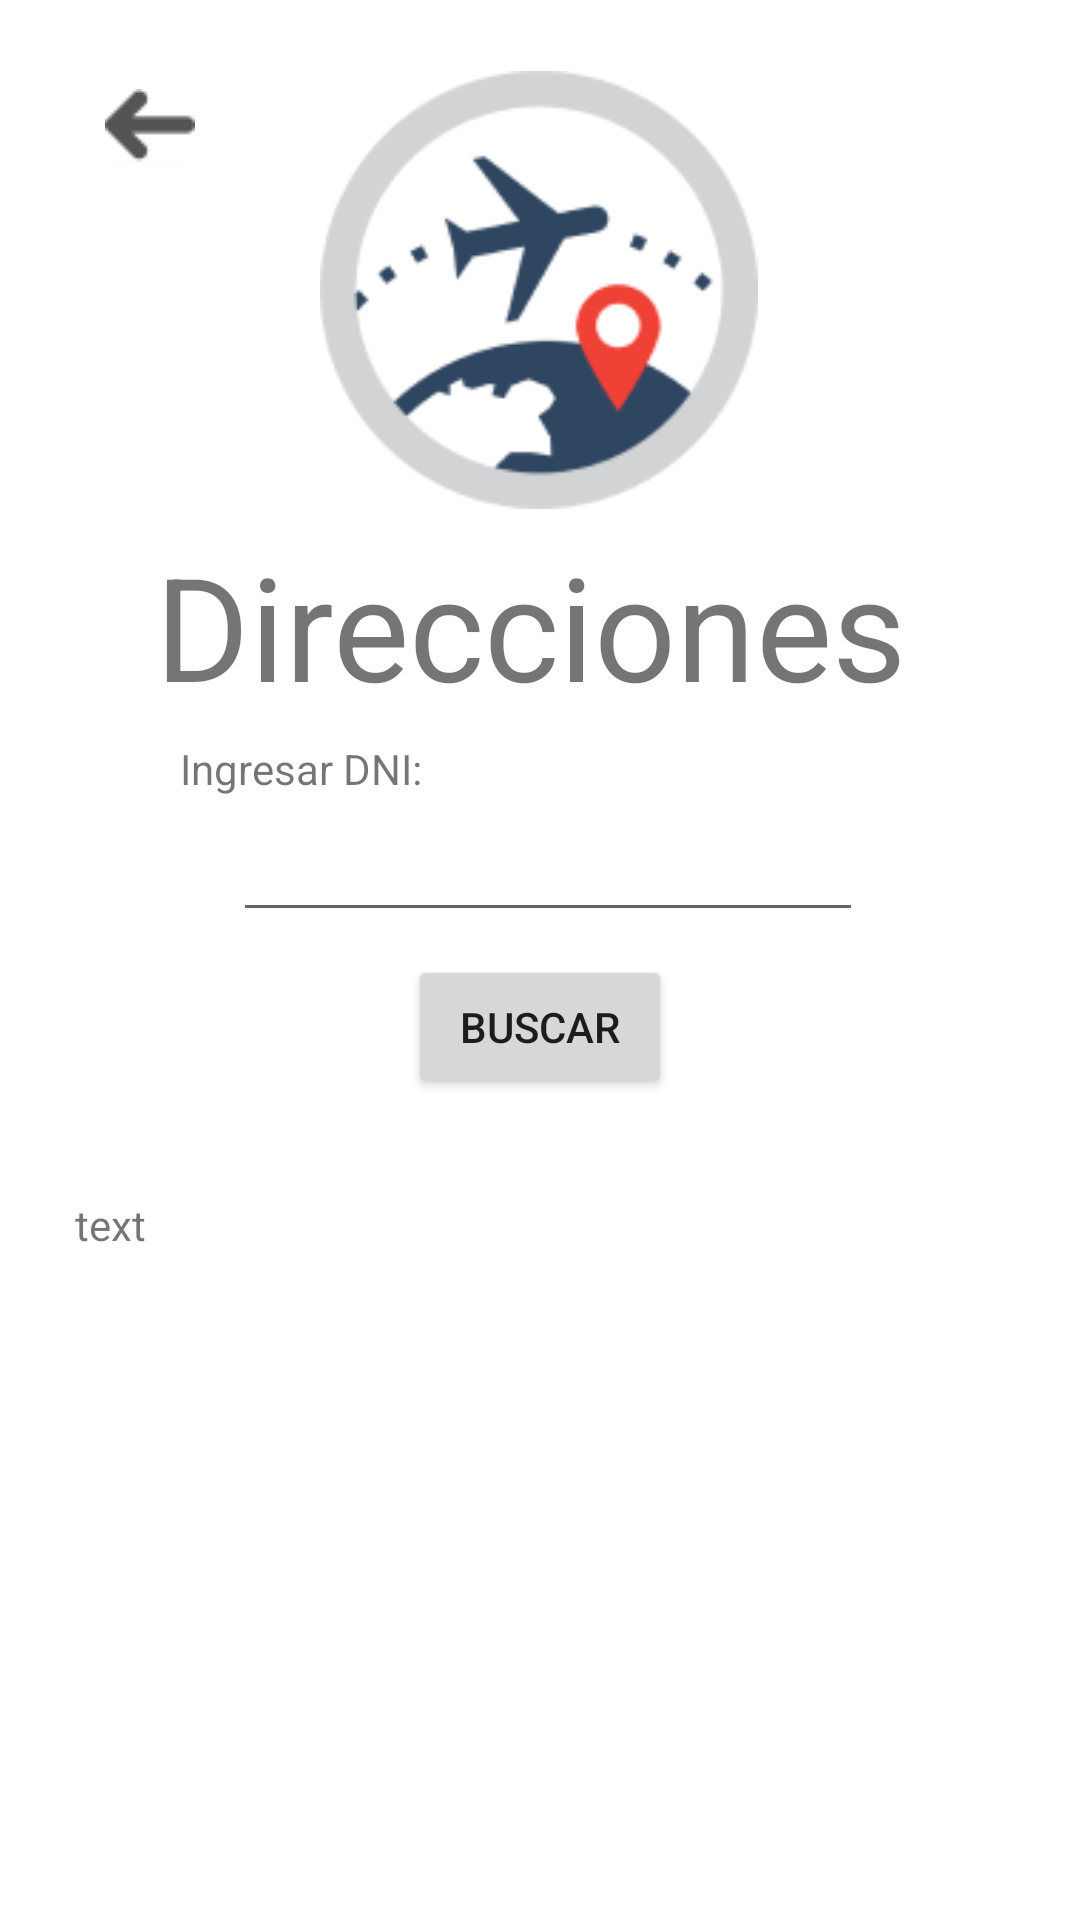

Point at icon controls on the screen. Image size 1080×1920, points as [x,y].
flecha: [150,125]
